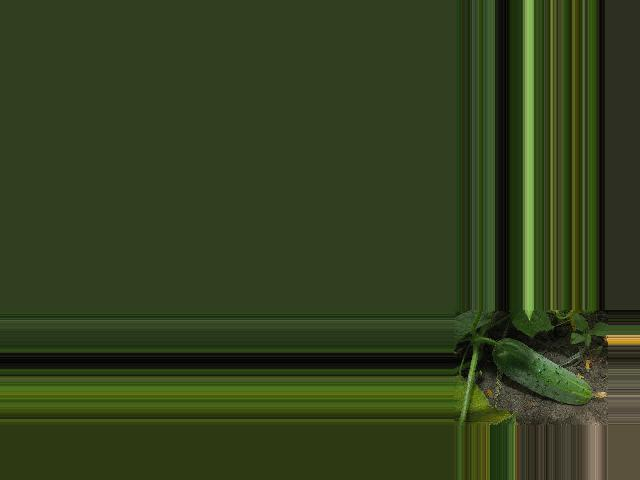cucumber: (492, 338, 608, 406)
